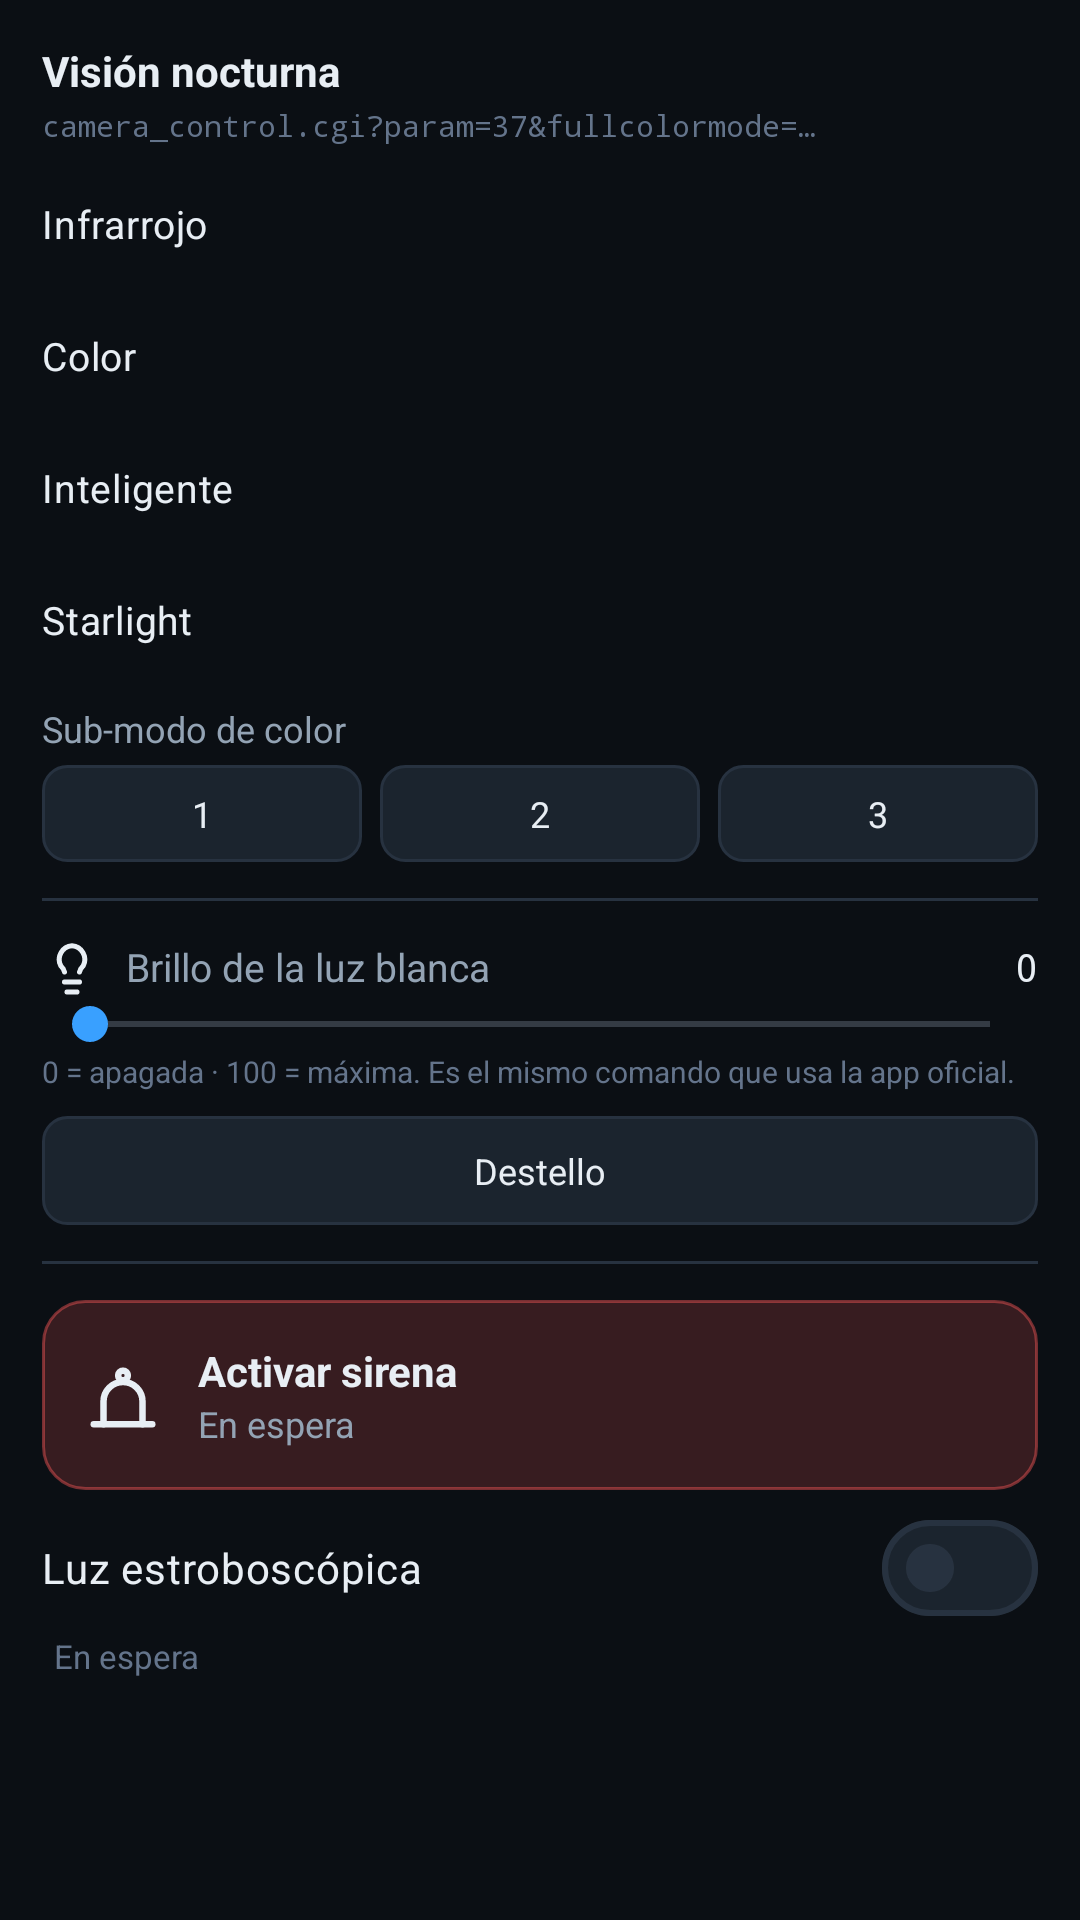

Icons on this 1080x1920 Android screen, each with the point to tap as [x,y]:
lightbulb: [72,969]
